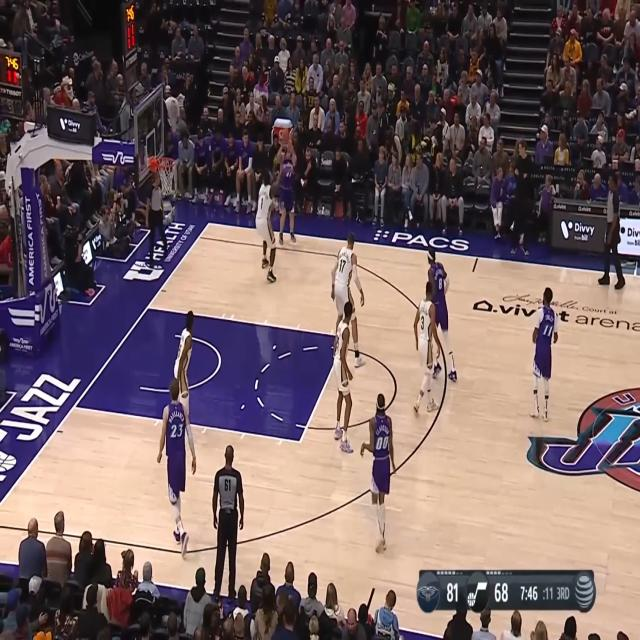Ball: (282, 129, 289, 144)
Clock: (0, 52, 22, 87), (125, 1, 136, 57)
Hoop: (156, 157, 176, 196)
Overlay: (416, 569, 597, 614)
Player: (156, 379, 197, 558), (360, 393, 396, 554), (331, 231, 368, 368), (427, 246, 458, 384), (413, 280, 441, 420), (530, 287, 558, 426), (255, 164, 287, 283), (333, 300, 354, 452), (174, 310, 195, 450), (276, 138, 298, 245)
Ref: (212, 444, 244, 605), (597, 170, 626, 290), (145, 171, 166, 267)
Scoreboard: (417, 570, 572, 613)
